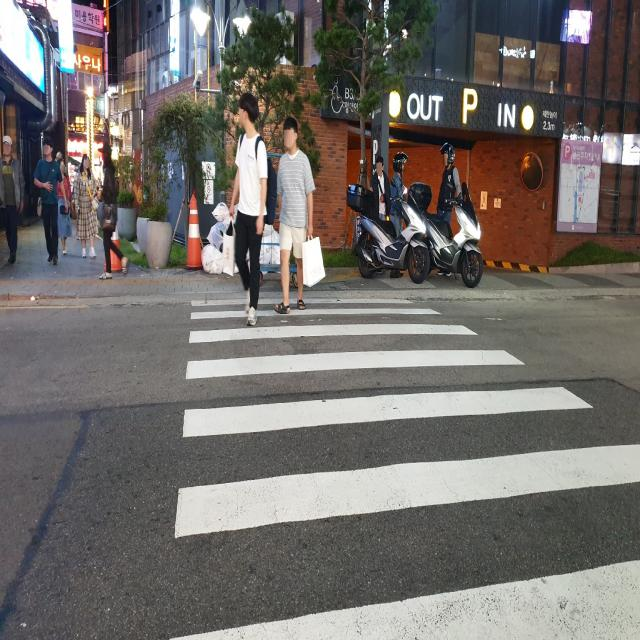횡단보도: (172, 296, 640, 543)
